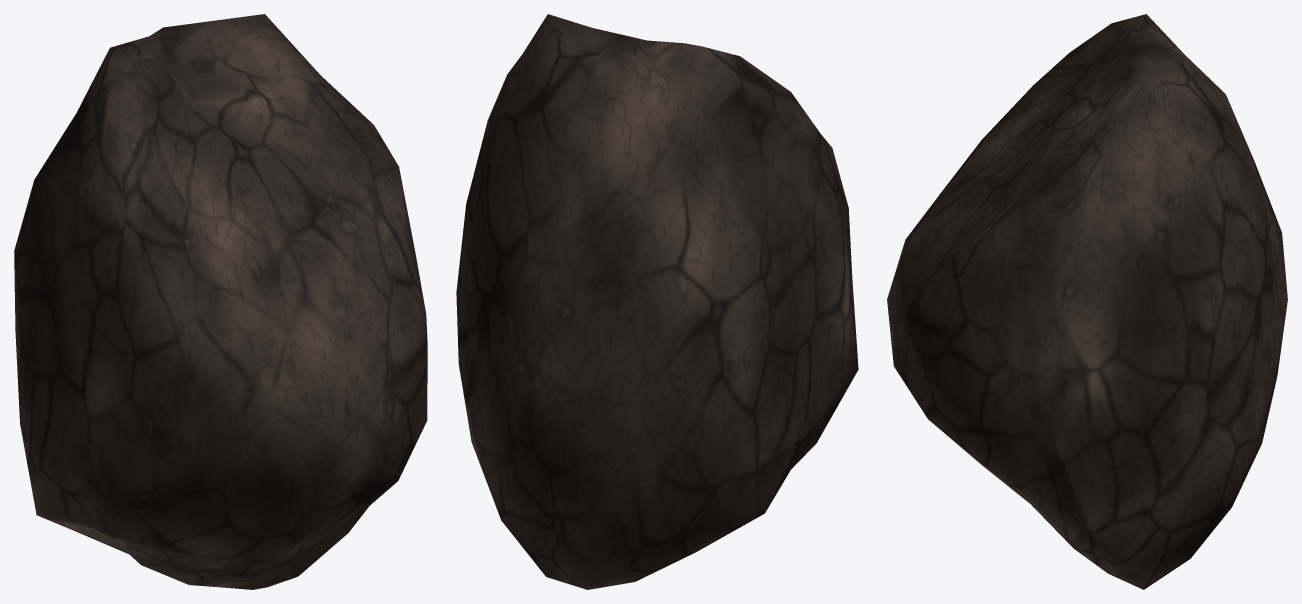
Rendered from shard_cool.glb.
3 views of the same model, side by side, from view 1: azimuth 30°, elevation 25°; view 2: azimuth 150°, elevation 25°; view 3: azimuth 270°, elevation 25° (orthographic). The views are drawn at different scales.
Visible parts, largest first — view 1: shard; view 2: shard; view 3: shard.
Boxes of the visible parts, <box> form: shard: <box>14,14,427,589</box>; shard: <box>456,14,858,589</box>; shard: <box>887,14,1287,589</box>.
Size of the model in its own units: 1.35 by 2.22 by 1.58.
1 material, 1 textured.
